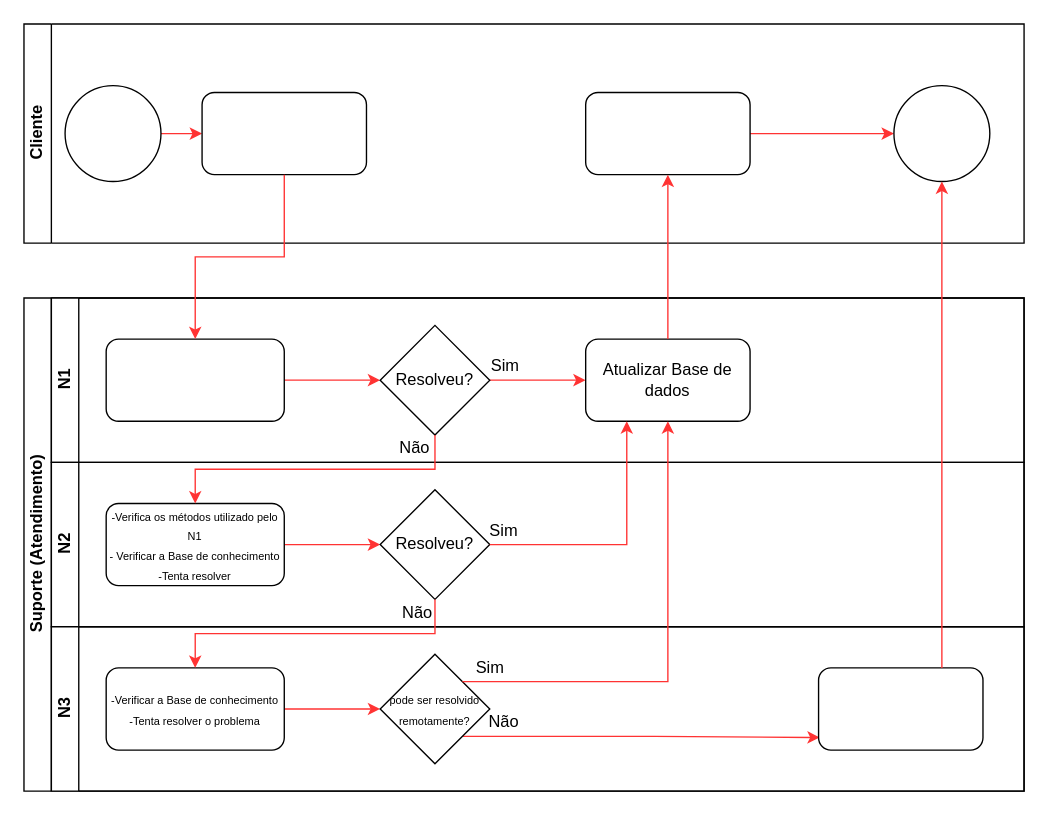
Some shapes in this 1048 by 815 pixel diagram are drawn without their labels. The centre of each missing label's shape, as x and y in pixels:
-Classifica -Verifica a Base de conhecimento -Tentar resolver: pixel 194 379
Abertura de chamado: pixel 112 133
Feedback do cliente: pixel 667 133
Finalizar Chamado: pixel 941 133
Relatar o problema: pixel 283 133
Visita Técnica: pixel 900 708
